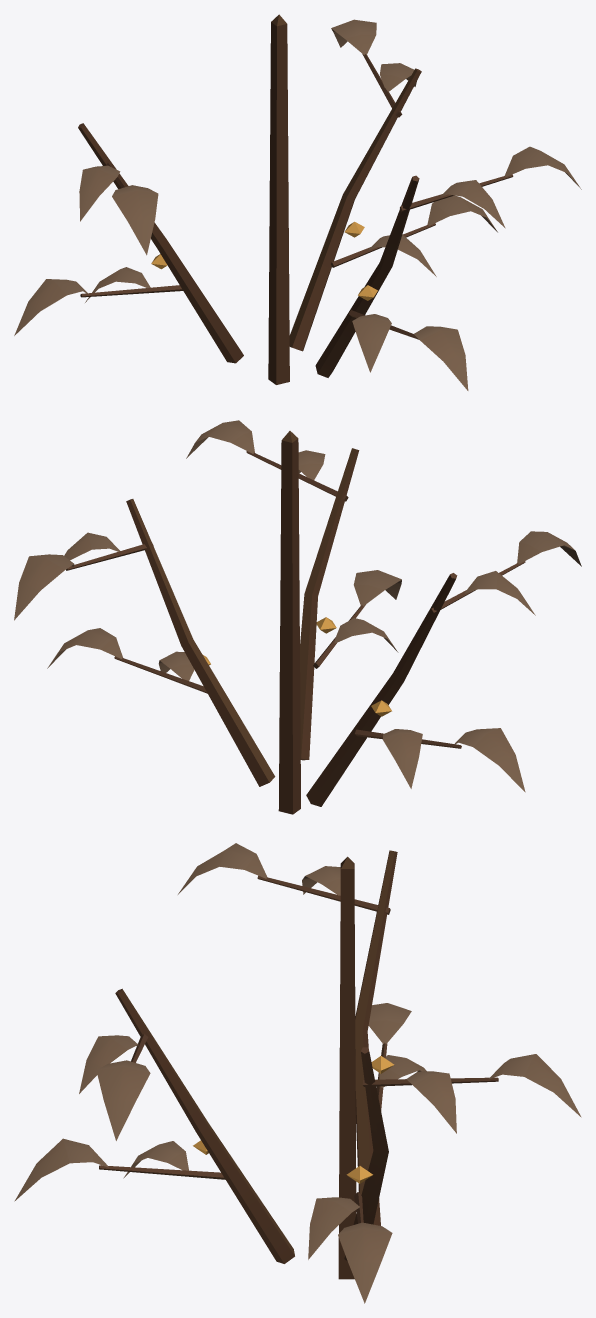
Rendered from crop_tomato_withered.glb.
The picture shows the model from 3 angles, top to bottom: view 1: azimuth 30°, elevation 25°; view 2: azimuth 150°, elevation 25°; view 3: azimuth 270°, elevation 25°; orthographic projection. The views are drawn at different scales.
Visible parts, largest first — view 1: tomato_leaf_00_00_petiole, tomato_leaf_00_00_leaflet_00, tomato_dried_00; view 2: tomato_leaf_00_00_petiole, tomato_leaf_00_00_leaflet_00; view 3: tomato_leaf_00_00_petiole, tomato_leaf_00_00_leaflet_00, tomato_dried_00.
Part boxes in pixels (left/top/right/bottom): tomato_leaf_00_00_petiole: left=78, top=14, right=513, bottom=384; tomato_leaf_00_00_leaflet_00: left=14, top=19, right=581, bottom=390; tomato_dried_00: left=151, top=221, right=377, bottom=300; tomato_leaf_00_00_petiole: left=66, top=431, right=525, bottom=814; tomato_leaf_00_00_leaflet_00: left=14, top=420, right=581, bottom=792; tomato_leaf_00_00_petiole: left=99, top=850, right=498, bottom=1279; tomato_leaf_00_00_leaflet_00: left=14, top=843, right=581, bottom=1303; tomato_dried_00: left=193, top=1056, right=394, bottom=1183.
Size of the model in its own units: 1.11 by 0.82 by 1.01.
